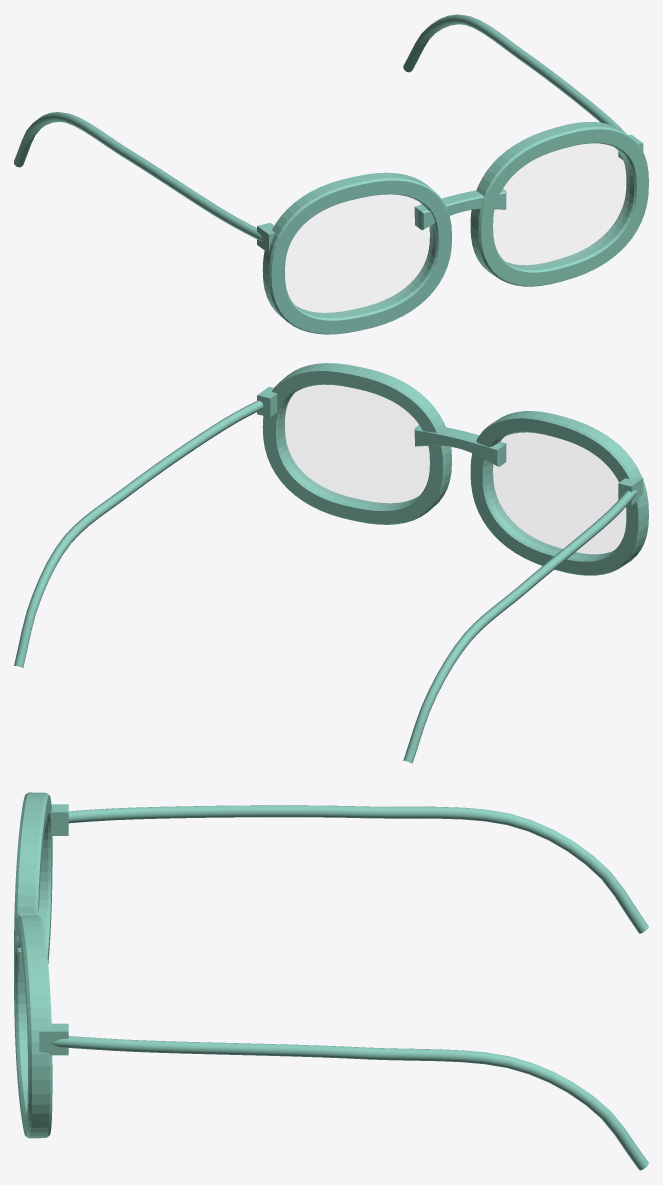
Rendered from NY-K03_Moon_Mint.glb.
3 views of the same model, one above another, from view 1: azimuth 30°, elevation 25°; view 2: azimuth 150°, elevation 25°; view 3: azimuth 270°, elevation 25° (orthographic). The views are drawn at different scales.
Parts seen in each view (by area): view 1: Moon_Mint_Acetate, Moon_Mint_Lenses; view 2: Moon_Mint_Acetate, Moon_Mint_Lenses; view 3: Moon_Mint_Acetate.
Part boxes in pixels (left/top/right/bottom): Moon_Mint_Acetate: left=14, top=14, right=648, bottom=334; Moon_Mint_Lenses: left=285, top=144, right=629, bottom=314; Moon_Mint_Acetate: left=14, top=363, right=648, bottom=763; Moon_Mint_Lenses: left=282, top=385, right=625, bottom=555; Moon_Mint_Acetate: left=14, top=792, right=648, bottom=1170.
Bounding box in the file's own units: 0.1148 × 0.0399 × 0.1241.
